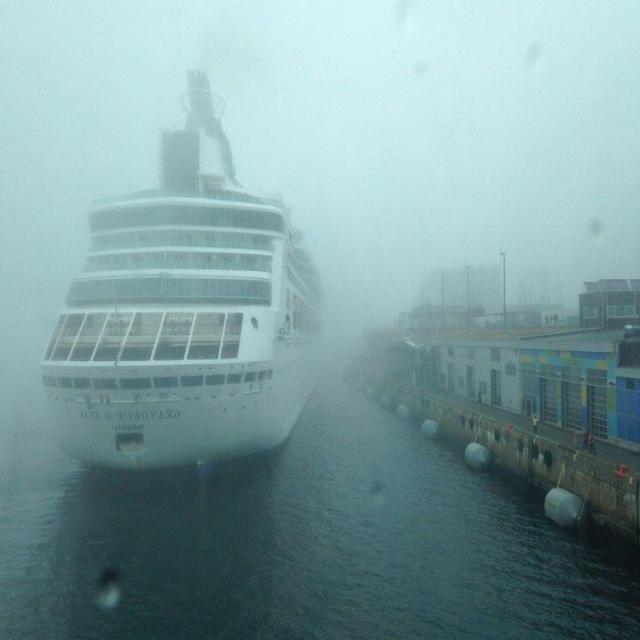passenger ship: (48, 70, 338, 470)
